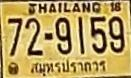1: (77, 17, 84, 54)
2: (26, 17, 41, 55)
5: (90, 16, 106, 53)
7: (7, 17, 22, 55)
9: (108, 15, 124, 52), (55, 17, 71, 54)
SPK: (29, 59, 107, 76)
